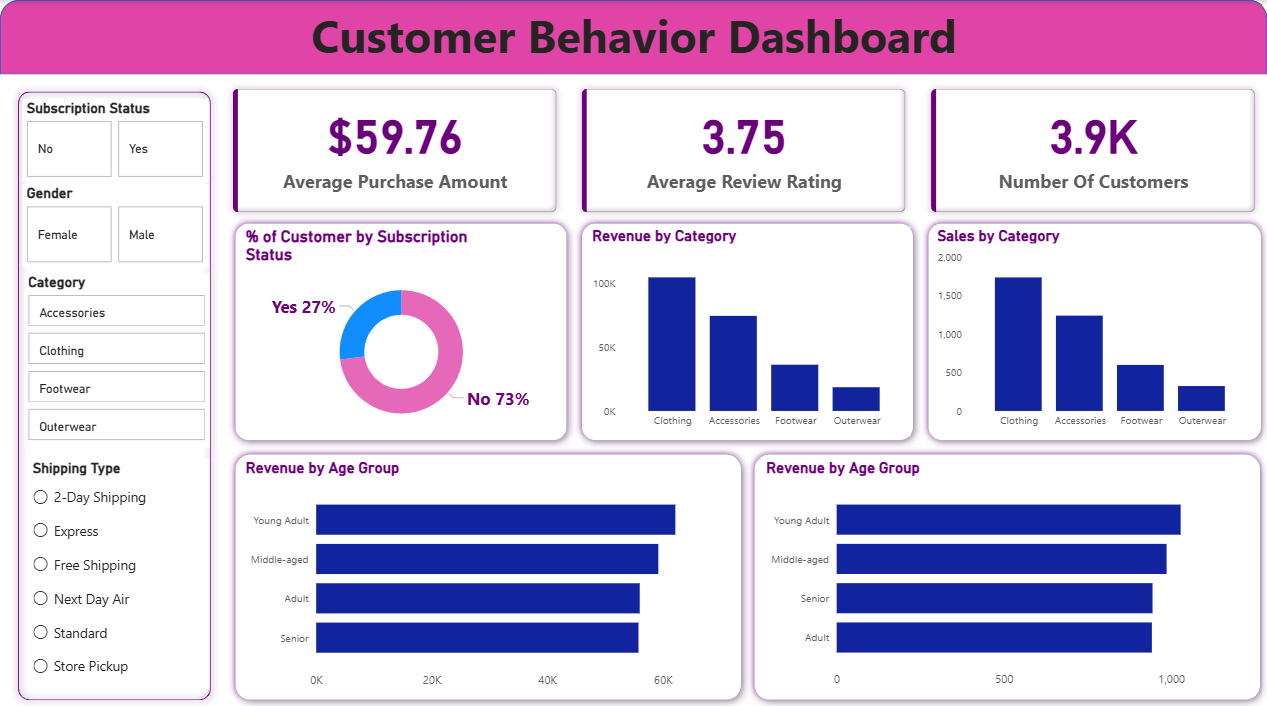

What the dashboard file says about the page in this screenshot:
{"tool":"powerbi","page":{"name":"Page 1","canvas":[1500,850],"ordinal":0},"visuals":[{"type":"cardVisual","fields":{"Data":["Customer.Average Purchase Amount","Customer.Average Review Rating","Customer.Number Of Customers"]},"box":[259,88.3,1241,178.3],"z":0},{"type":"shape","box":[0,0,1500.4,88.3],"z":1000},{"type":"textbox","box":[0,0,1500.4,99.5],"z":2000},{"type":"shape","box":[270.4,255.4,409.4,274.2],"z":3000},{"type":"donutChart","title":"% of Customer by Subscription Status","fields":{"Category":["Customer.subscription_status"],"Y":["CountNonNull(Customer.customer_id)"]},"box":[285.4,268.5,377.4,247.9],"z":4000},{"type":"shape","box":[679.8,255.4,409.4,274.2],"z":5000},{"type":"shape","box":[1088.8,255.4,411.2,274.2],"z":6000},{"type":"clusteredColumnChart","title":"Revenue by Category","fields":{"Y":["Sum(Customer.purchase_amount)"],"Category":["Customer.category"]},"box":[694.8,268.5,381.2,247.9],"z":7000},{"type":"clusteredColumnChart","title":"Sales by Category","fields":{"Y":["CountNonNull(Customer.customer_id)"],"Category":["Customer.category"]},"box":[1104.1,268.5,381.2,247.9],"z":8000},{"type":"shape","box":[13.1,99.5,246,738],"z":9000},{"type":"advancedSlicerVisual","fields":{"Values":["Customer.subscription_status"]},"box":[26.3,116.4,219.7,97.6],"z":10000},{"type":"advancedSlicerVisual","fields":{"Values":["Customer.gender"]},"box":[26.3,217.8,219.7,97.6],"z":11000},{"type":"advancedSlicerVisual","fields":{"Values":["Customer.category"]},"box":[28.2,323,219.7,206.6],"z":12000},{"type":"listSlicer","fields":{"Values":["Customer.shipping_type"]},"box":[33.8,542.7,214.1,270.4],"z":13000},{"type":"shape","box":[270.4,529.5,615.9,308],"z":14000},{"type":"shape","box":[884.4,529.5,615.9,308],"z":14001},{"type":"clusteredBarChart","title":"Revenue by Age Group","fields":{"Y":["Sum(Customer.purchase_amount)"],"Category":["Customer.age_group"]},"box":[285.5,542.7,583.6,280],"z":14002},{"type":"clusteredBarChart","title":"Revenue by Age Group","fields":{"Y":["CountNonNull(Customer.customer_id)"],"Category":["Customer.age_group"]},"box":[901.3,542.7,584,279.8],"z":14003}]}

Visuals, with their boxes in screenshot pixels (x1, y1, x2, y2), scaled from the page's 1500x850 canvas onto the 1267x706 screenshot:
cardVisual - Customer.Average Purchase Amount x Customer.Average Review Rating: select_region(219, 73, 1266, 221)
shape: select_region(0, 0, 1266, 73)
textbox: select_region(0, 0, 1266, 83)
shape: select_region(228, 212, 574, 440)
"% of Customer by Subscription Status" donutChart: select_region(241, 223, 560, 429)
shape: select_region(574, 212, 920, 440)
shape: select_region(920, 212, 1266, 440)
"Revenue by Category" clusteredColumnChart: select_region(587, 223, 909, 429)
"Sales by Category" clusteredColumnChart: select_region(933, 223, 1255, 429)
shape: select_region(11, 83, 219, 696)
advancedSlicerVisual - Customer.subscription_status: select_region(22, 97, 208, 178)
advancedSlicerVisual - Customer.gender: select_region(22, 181, 208, 262)
advancedSlicerVisual - Customer.category: select_region(24, 268, 209, 440)
listSlicer - Customer.shipping_type: select_region(29, 451, 209, 675)
shape: select_region(228, 440, 749, 696)
shape: select_region(747, 440, 1266, 696)
"Revenue by Age Group" clusteredBarChart: select_region(241, 451, 734, 683)
"Revenue by Age Group" clusteredBarChart: select_region(761, 451, 1255, 683)
